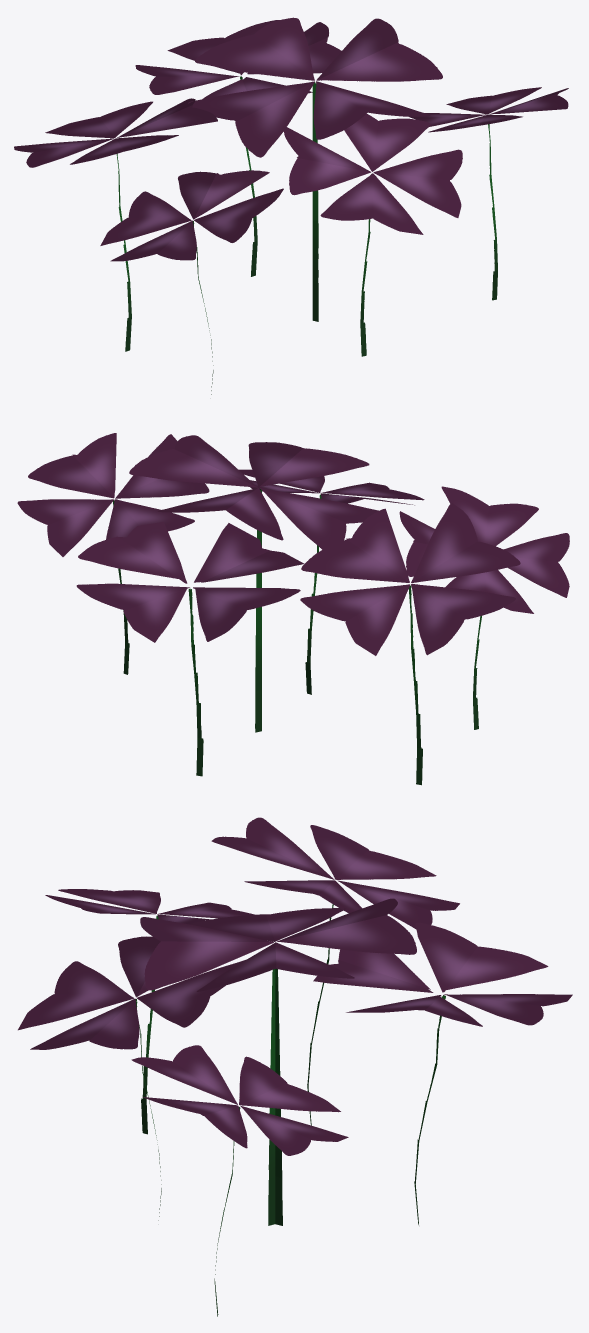
The model's file is SM_VioletFlowerCluster.fbx.
The picture shows the model from 3 angles, top to bottom: view 1: azimuth 30°, elevation 25°; view 2: azimuth 150°, elevation 25°; view 3: azimuth 270°, elevation 25°; orthographic projection. The views are drawn at different scales.
Visible parts, largest first — view 1: SM_VioletFlowerCluster; view 2: SM_VioletFlowerCluster; view 3: SM_VioletFlowerCluster.
Boxes of the visible parts, x1,y1,x2,y2 form: SM_VioletFlowerCluster: (14,17,568,394); SM_VioletFlowerCluster: (17,433,569,785); SM_VioletFlowerCluster: (18,817,572,1316).
Size of the model in its own units: 34.56 by 27.36 by 16.76.
Materials: 1 (1 with a texture image).
